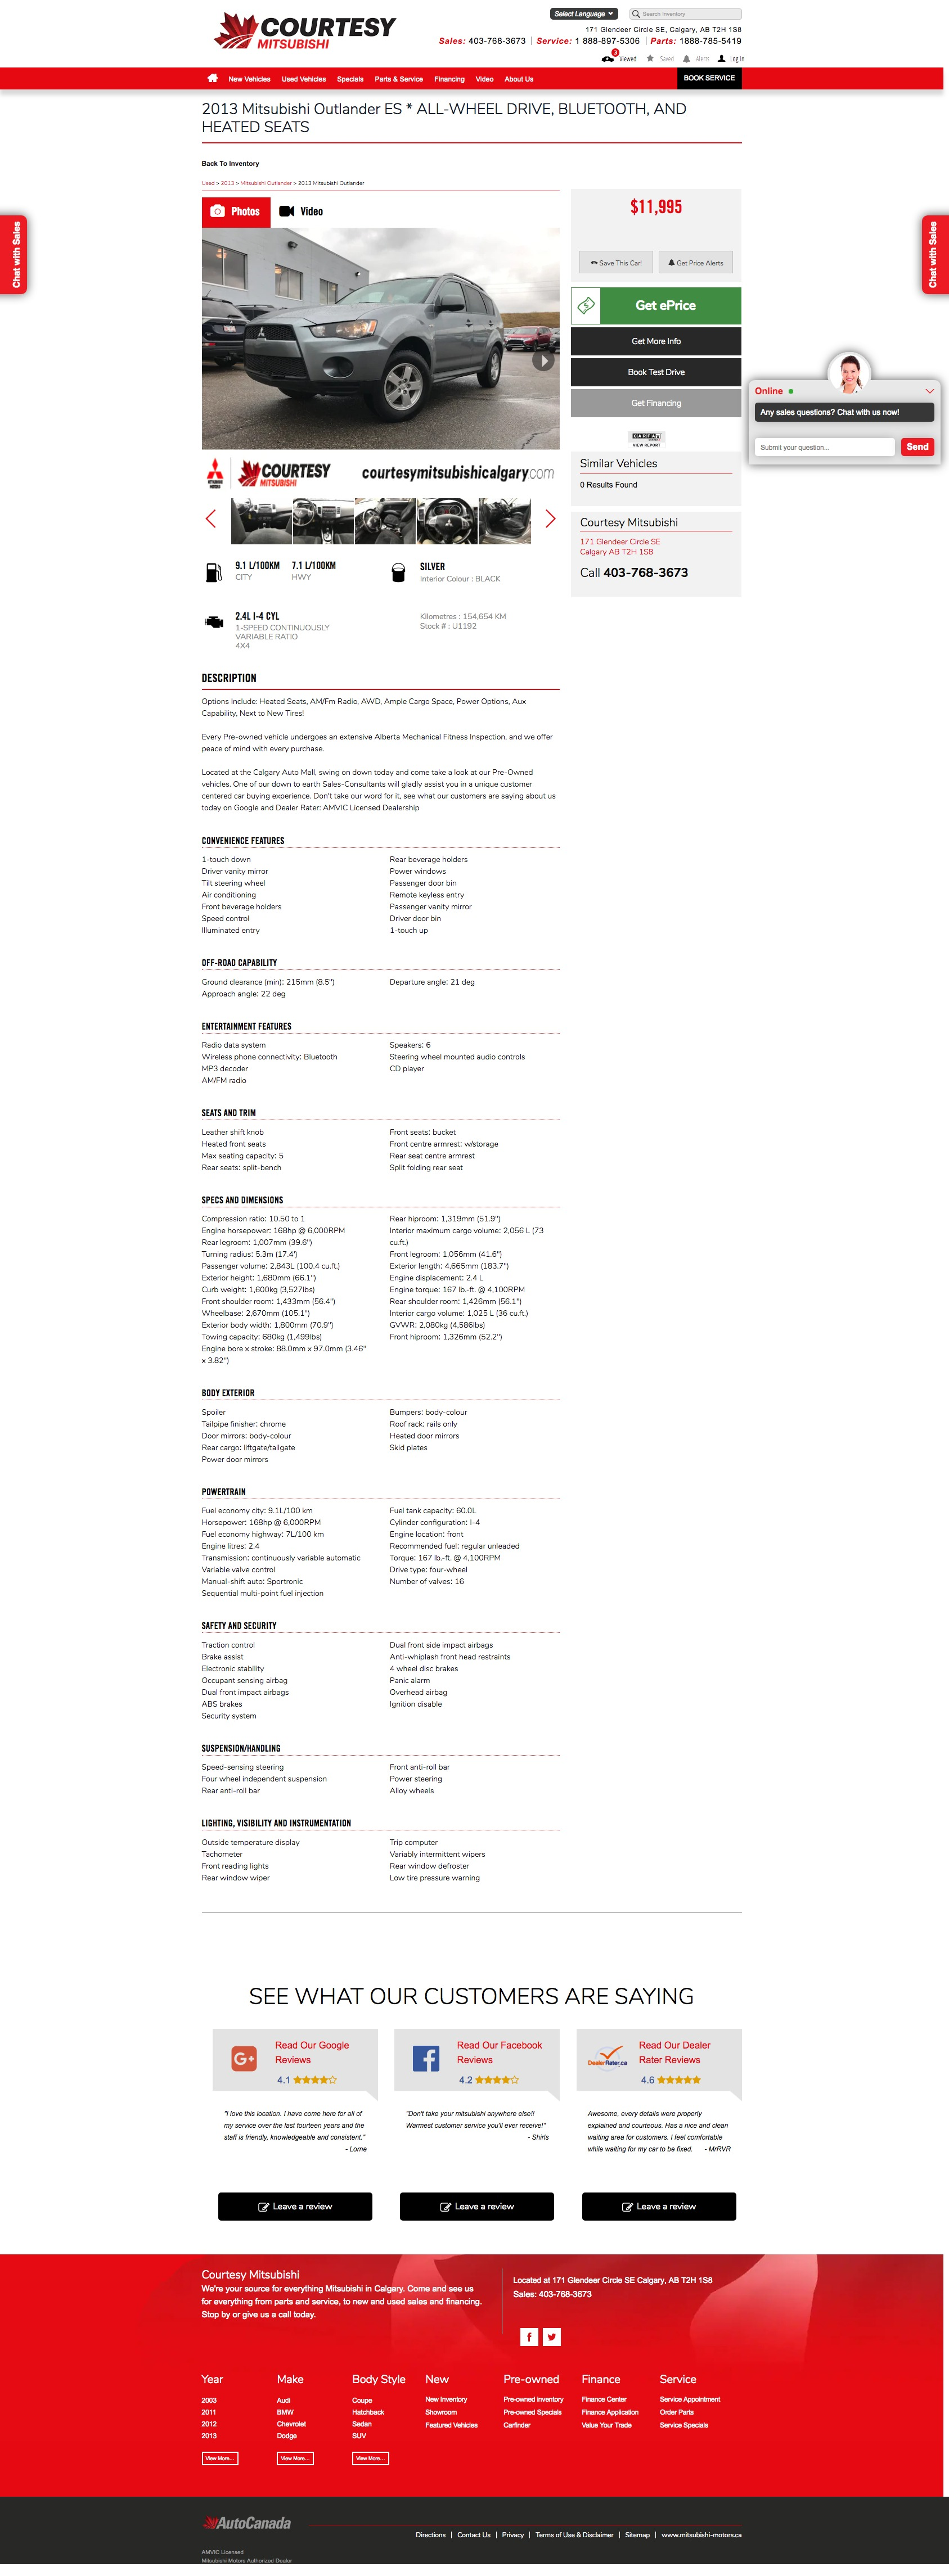car: (546, 509, 556, 529)
